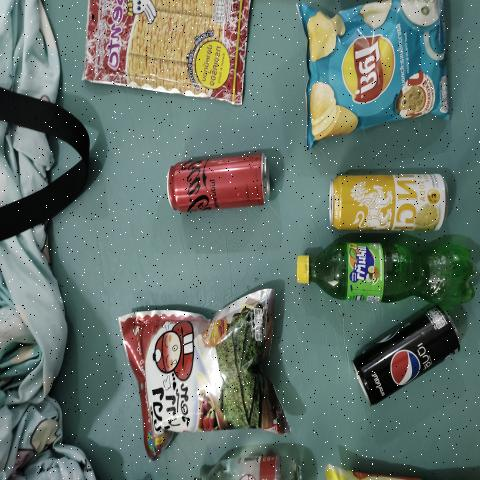bento_red: (82, 0, 243, 84)
coke_red: (168, 155, 277, 211)
fanta_green: (293, 241, 477, 300)
lay_blue: (308, 0, 453, 140)
pepsi_black: (346, 305, 463, 407)
singha_yellow: (328, 175, 445, 228)
taokaenoi: (149, 305, 274, 440)
